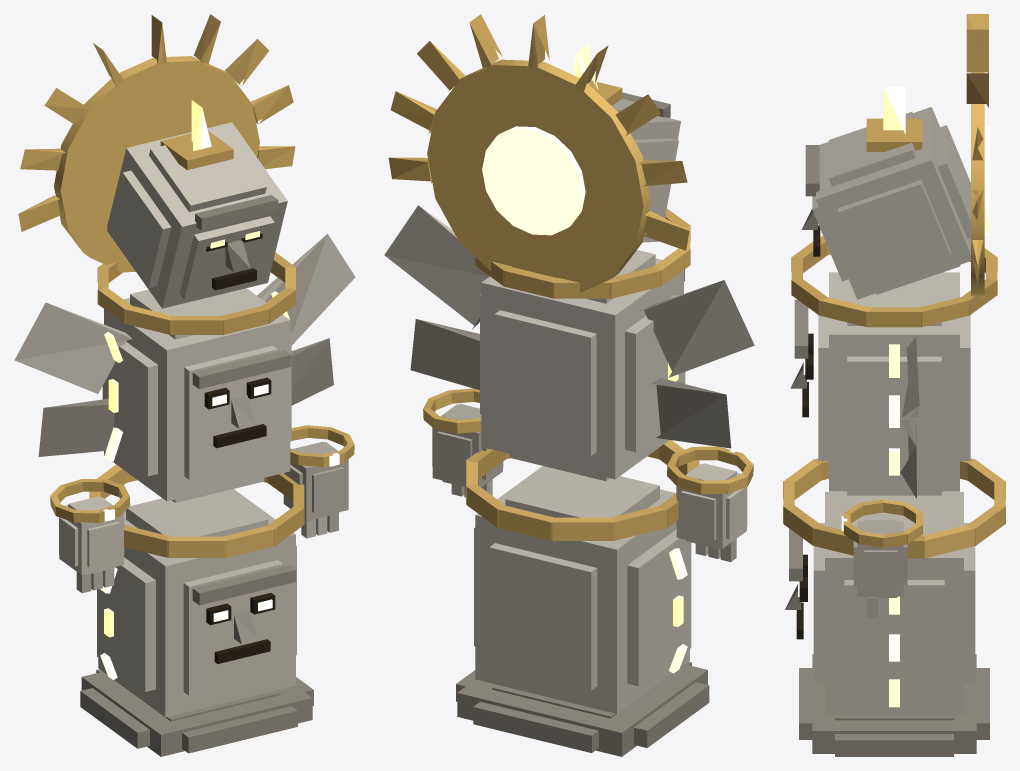
3 views of the same model, side by side, from view 1: azimuth 30°, elevation 25°; view 2: azimuth 150°, elevation 25°; view 3: azimuth 270°, elevation 25° (orthographic). The views are drawn at different scales.
Parts seen in each view (by area): view 1: VigilTotem; view 2: VigilTotem; view 3: VigilTotem.
Part boxes in pixels (box(x1,y1,x2,y2)): VigilTotem: box(14, 14, 355, 756); VigilTotem: box(384, 14, 754, 756); VigilTotem: box(783, 14, 1005, 756).
Bounding box in the file's own units: 0.8239 × 1.53 × 0.4495.
